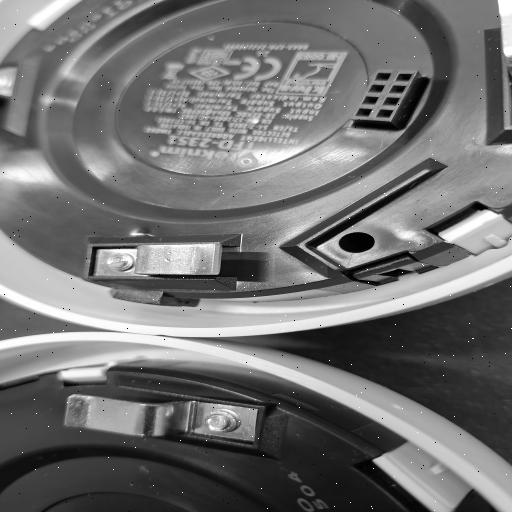konnektor: (326, 60, 446, 138)
yaysiz: (34, 381, 276, 449), (79, 226, 293, 286)
